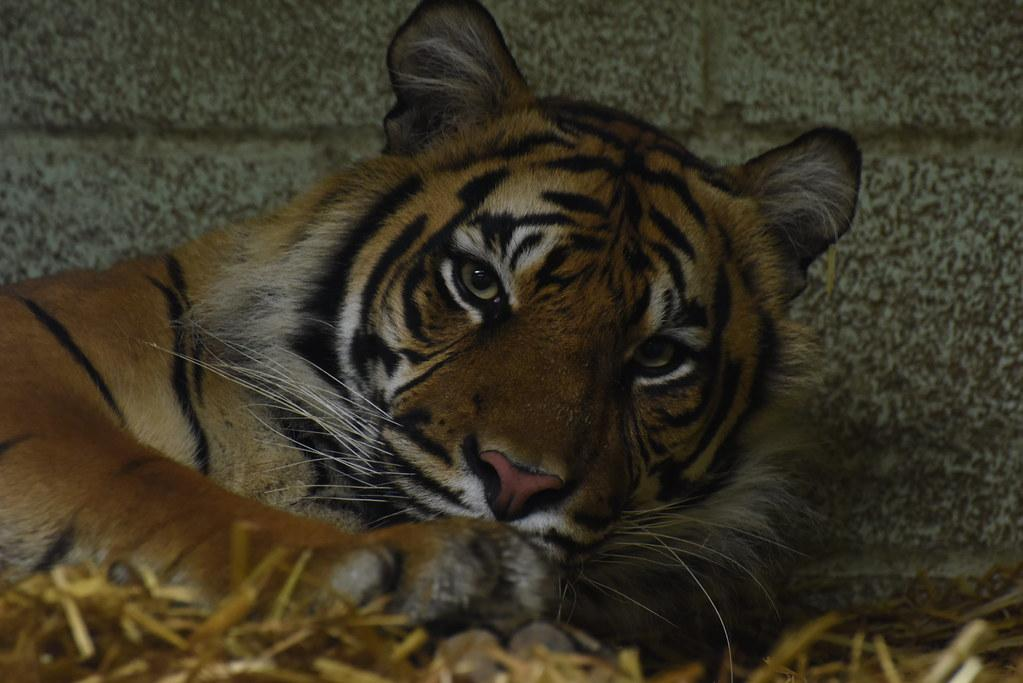tiger: (2, 1, 866, 668)
